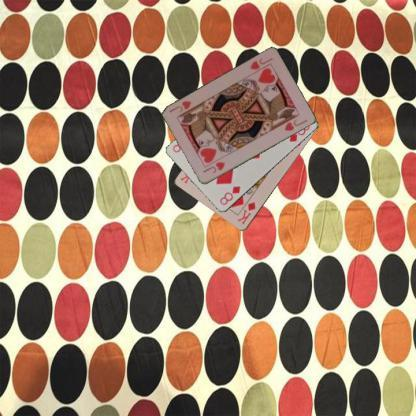8d: (217, 184, 242, 206)
Jh: (247, 54, 274, 76), (199, 160, 226, 174)
Kd: (235, 199, 257, 226)
